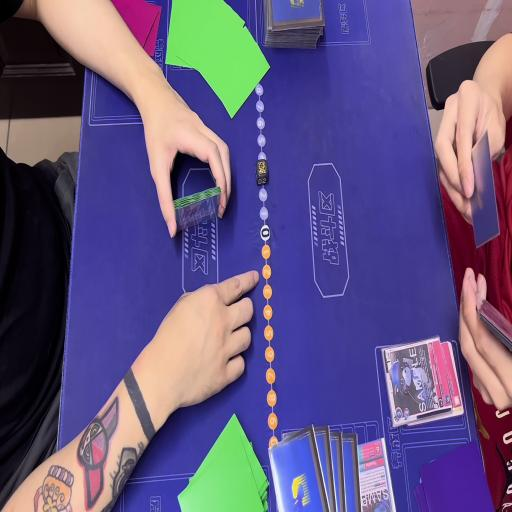card: (378, 334, 452, 415), (357, 438, 399, 512), (439, 340, 466, 421)
